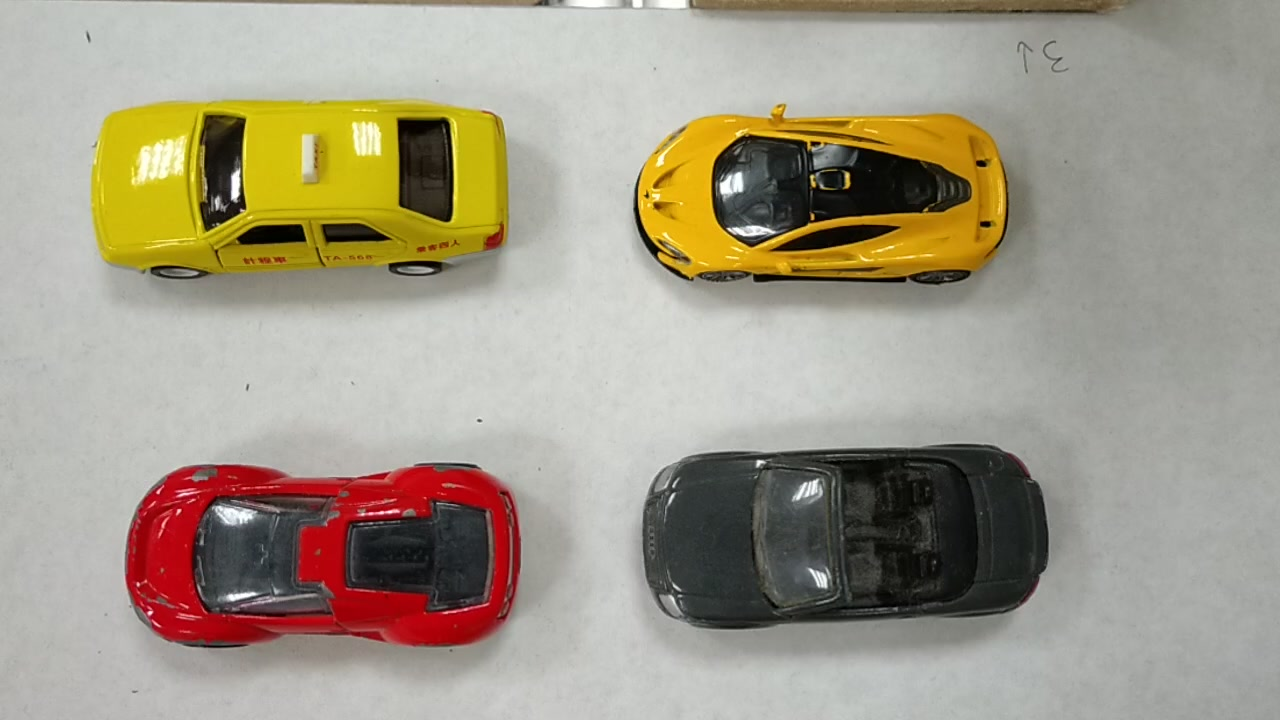car: (65, 98, 514, 291), (627, 441, 1057, 635), (112, 467, 526, 653), (626, 116, 1011, 293)
